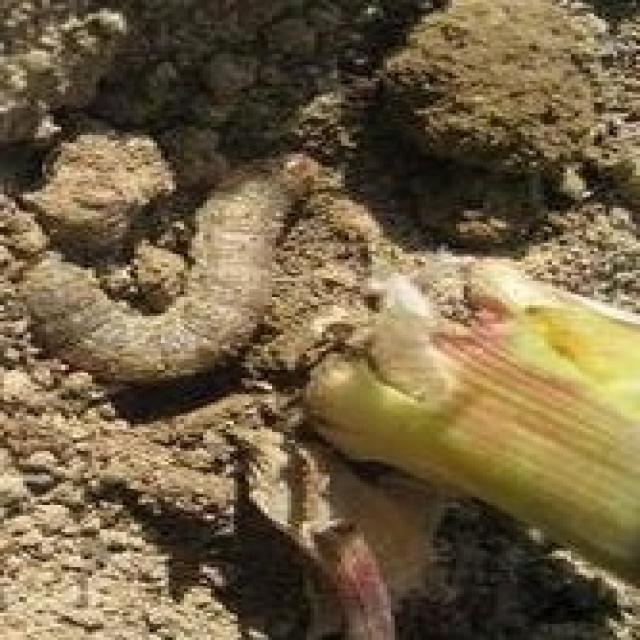black cutworm: (11, 139, 329, 403)
